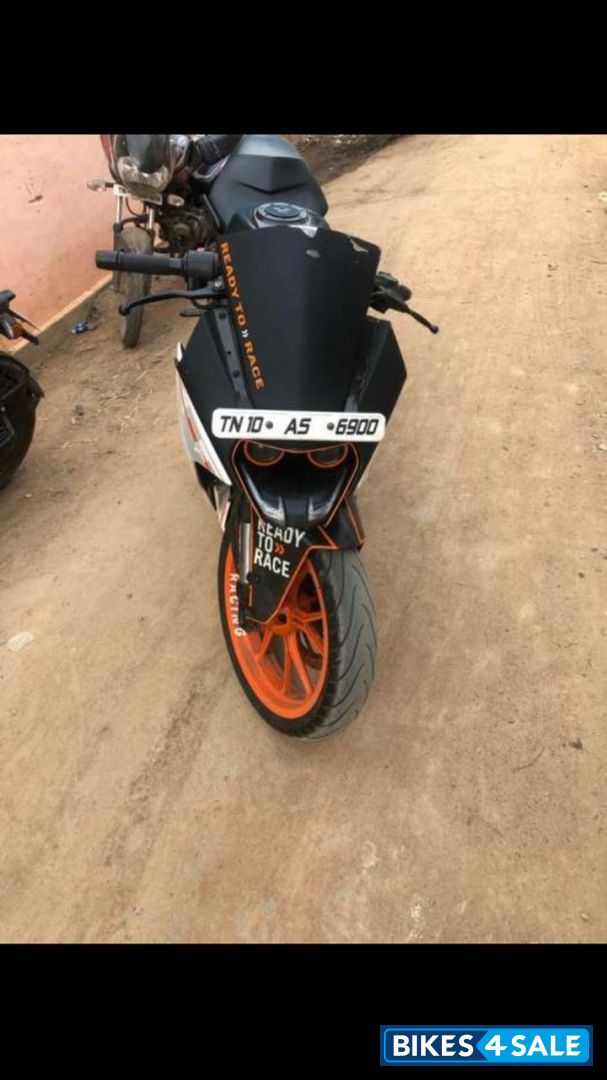numberplate: (208, 399, 386, 448)
